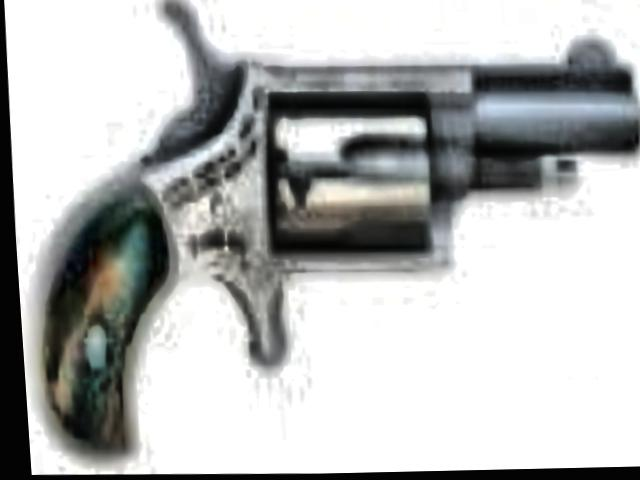pistol: (12, 0, 640, 461)
